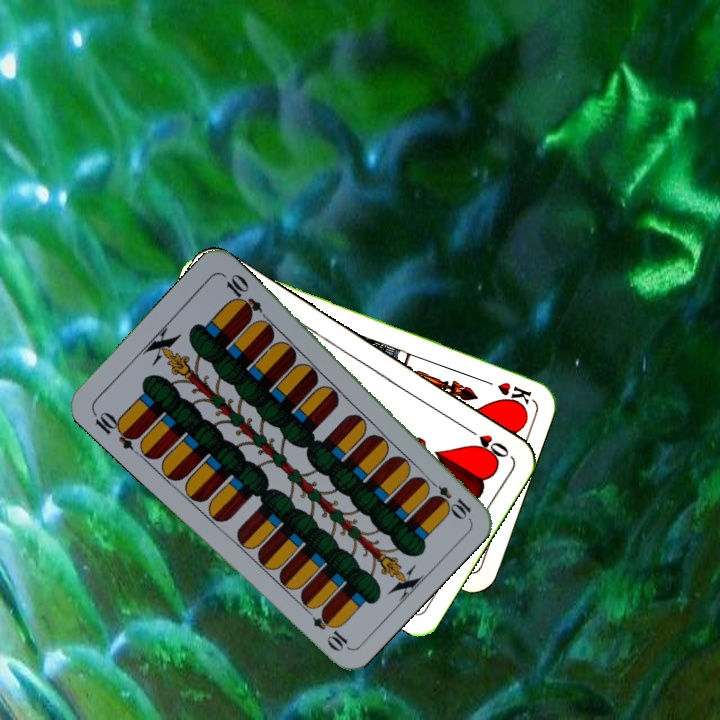E10: (88, 407, 142, 453), (423, 474, 474, 521)
HK: (476, 374, 535, 407)
HO: (460, 422, 512, 461)
